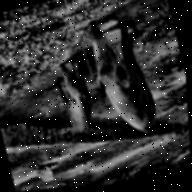boar: (79, 7, 162, 136), (36, 50, 109, 151)
